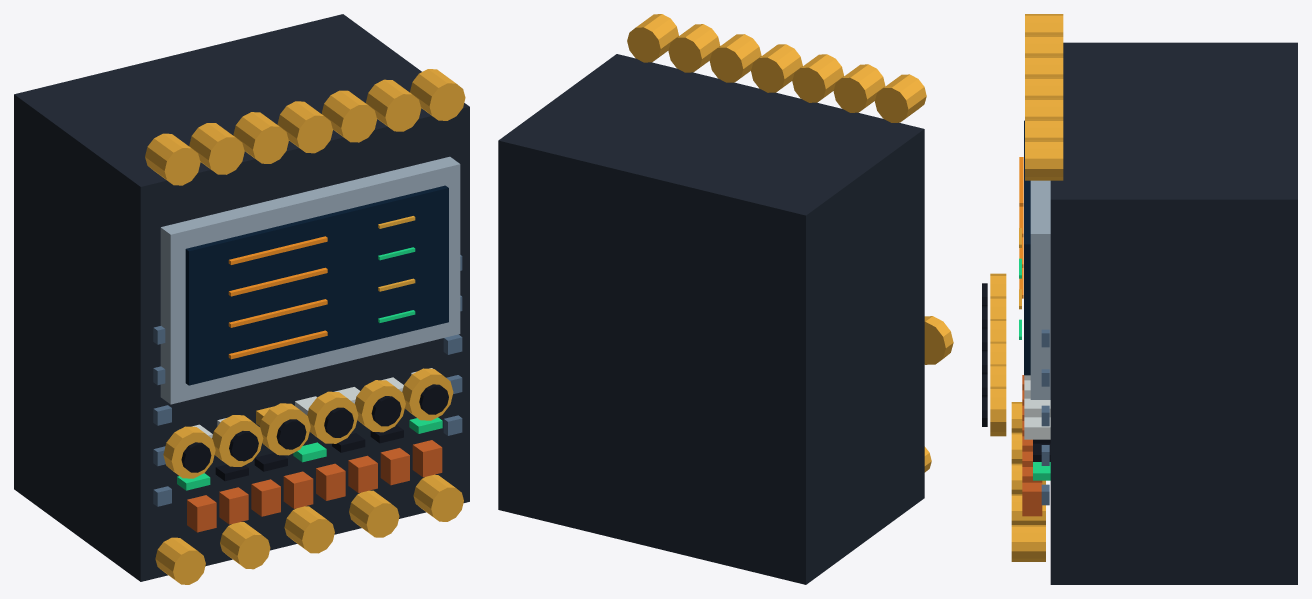
Rendered from 18_L86_JointTorqueCurrentSensorRack.fbx.
The picture shows the model from 3 angles, left to right: view 1: azimuth 30°, elevation 25°; view 2: azimuth 150°, elevation 25°; view 3: azimuth 270°, elevation 25°; orthographic projection. The views are drawn at different scales.
Visible parts, largest first — view 1: L86_JointTorqueCurrentSensorRack, L86_JointTorqueCurrentSensorRack_Part_0010, L86_JointTorqueCurrentSensorRack_Part_0011, L86_JointTorqueCurrentSensorRack_Part_0021, L86_JointTorqueCurrentSensorRack_Part_0015, L86_JointTorqueCurrentSensorRack_Part_0019, L86_JointTorqueCurrentSensorRack_Part_0017, L86_JointTorqueCurrentSensorRack_Part_0013, L86_JointTorqueCurrentSensorRack_Part_0016, L86_JointTorqueCurrentSensorRack_Part_0022, L86_JointTorqueCurrentSensorRack_Part_0012, L86_JointTorqueCurrentSensorRack_Part_0018 (+2 smaller); view 2: L86_JointTorqueCurrentSensorRack, L86_JointTorqueCurrentSensorRack_Part_0010, L86_JointTorqueCurrentSensorRack_Part_0011; view 3: L86_JointTorqueCurrentSensorRack, L86_JointTorqueCurrentSensorRack_Part_0010, L86_JointTorqueCurrentSensorRack_Part_0021.
Boxes of the visible parts, x1=… form: L86_JointTorqueCurrentSensorRack: x1=14, y1=14, x2=469, y2=584; L86_JointTorqueCurrentSensorRack_Part_0010: x1=145, y1=69, x2=465, y2=185; L86_JointTorqueCurrentSensorRack_Part_0011: x1=163, y1=426, x2=215, y2=478; L86_JointTorqueCurrentSensorRack_Part_0021: x1=402, y1=368, x2=453, y2=420; L86_JointTorqueCurrentSensorRack_Part_0015: x1=259, y1=403, x2=310, y2=455; L86_JointTorqueCurrentSensorRack_Part_0019: x1=354, y1=380, x2=405, y2=432; L86_JointTorqueCurrentSensorRack_Part_0017: x1=307, y1=391, x2=358, y2=443; L86_JointTorqueCurrentSensorRack_Part_0013: x1=212, y1=415, x2=263, y2=466; L86_JointTorqueCurrentSensorRack_Part_0016: x1=276, y1=419, x2=306, y2=449; L86_JointTorqueCurrentSensorRack_Part_0022: x1=419, y1=384, x2=448, y2=414; L86_JointTorqueCurrentSensorRack_Part_0012: x1=181, y1=442, x2=211, y2=472; L86_JointTorqueCurrentSensorRack_Part_0018: x1=324, y1=407, x2=353, y2=437; L86_JointTorqueCurrentSensorRack: x1=498, y1=54, x2=931, y2=584; L86_JointTorqueCurrentSensorRack_Part_0010: x1=627, y1=14, x2=926, y2=122; L86_JointTorqueCurrentSensorRack_Part_0011: x1=924, y1=316, x2=953, y2=364; L86_JointTorqueCurrentSensorRack: x1=1011, y1=42, x2=1297, y2=584; L86_JointTorqueCurrentSensorRack_Part_0010: x1=1025, y1=14, x2=1063, y2=180; L86_JointTorqueCurrentSensorRack_Part_0021: x1=990, y1=387, x2=1006, y2=436.
Bounding box in the file's own units: 96.95 × 123 × 82.5.
